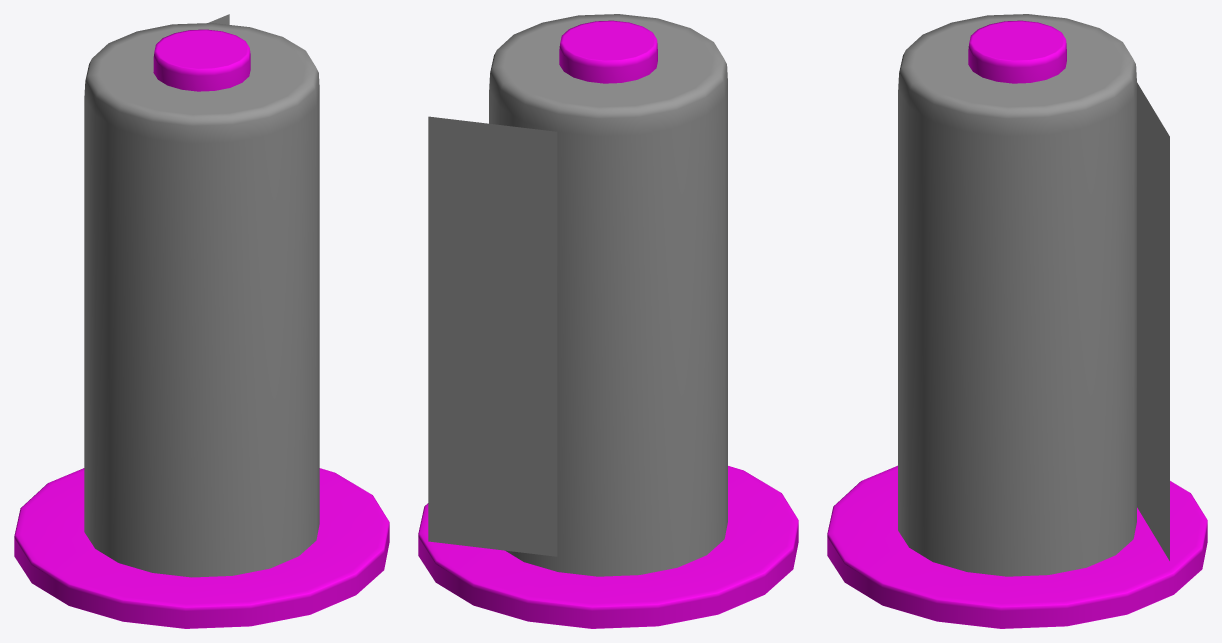
The model's file is Paper.FBX.
3 views of the same model, side by side, from view 1: azimuth 30°, elevation 25°; view 2: azimuth 150°, elevation 25°; view 3: azimuth 270°, elevation 25° (orthographic).
Parts seen in each view (by area): view 1: Cylinder001; view 2: Cylinder001; view 3: Cylinder001.
Boxes of the visible parts, x1=… form: Cylinder001: x1=14, y1=14, x2=389, y2=628; Cylinder001: x1=418, y1=14, x2=798, y2=628; Cylinder001: x1=827, y1=14, x2=1207, y2=628.
Bounding box in the file's own units: 0.4302 × 0.6327 × 0.4302.
